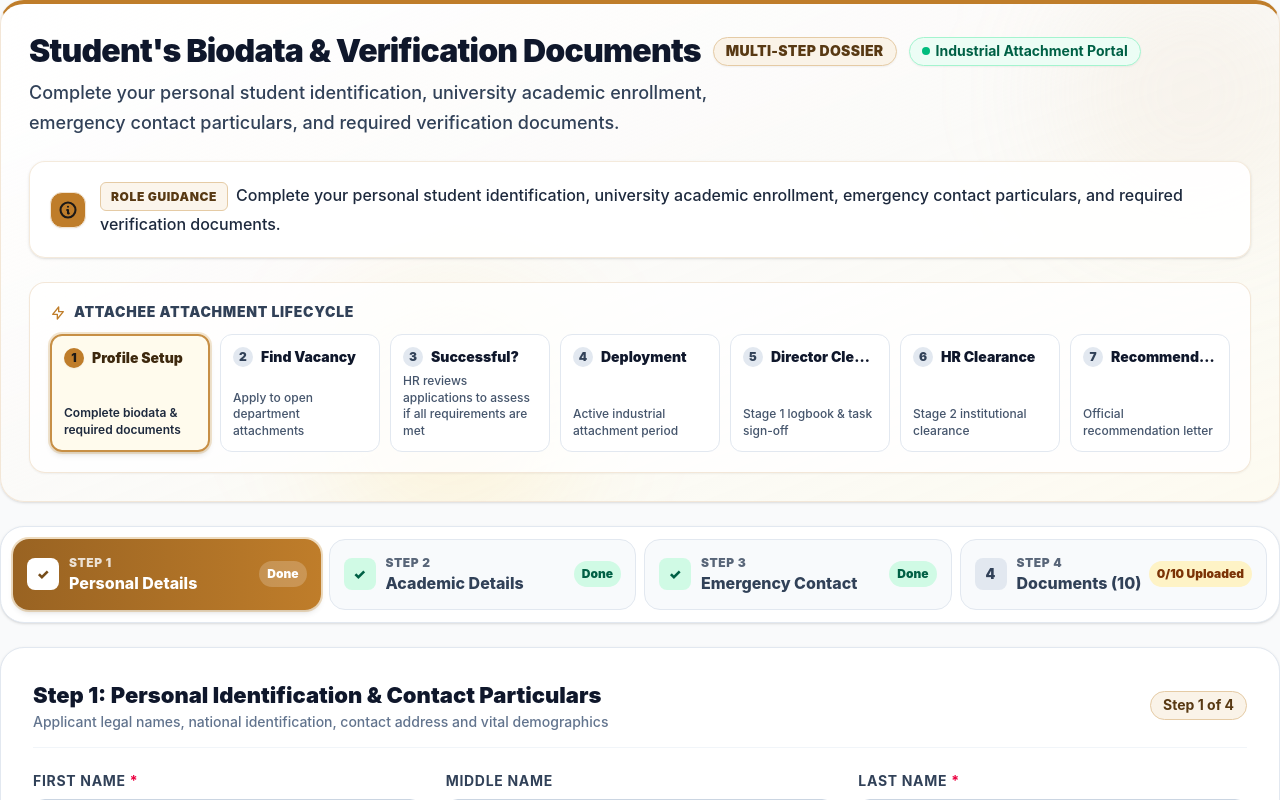
Test: Profile 4-Step Biodata Wizard Component › Academic Standing / Grade Award removal › requires ten documents, not nine
Click the button "4 Step 4 Documents (10) 0/10 Uploaded".
click(1113, 574)  # box [960,539,1267,610]
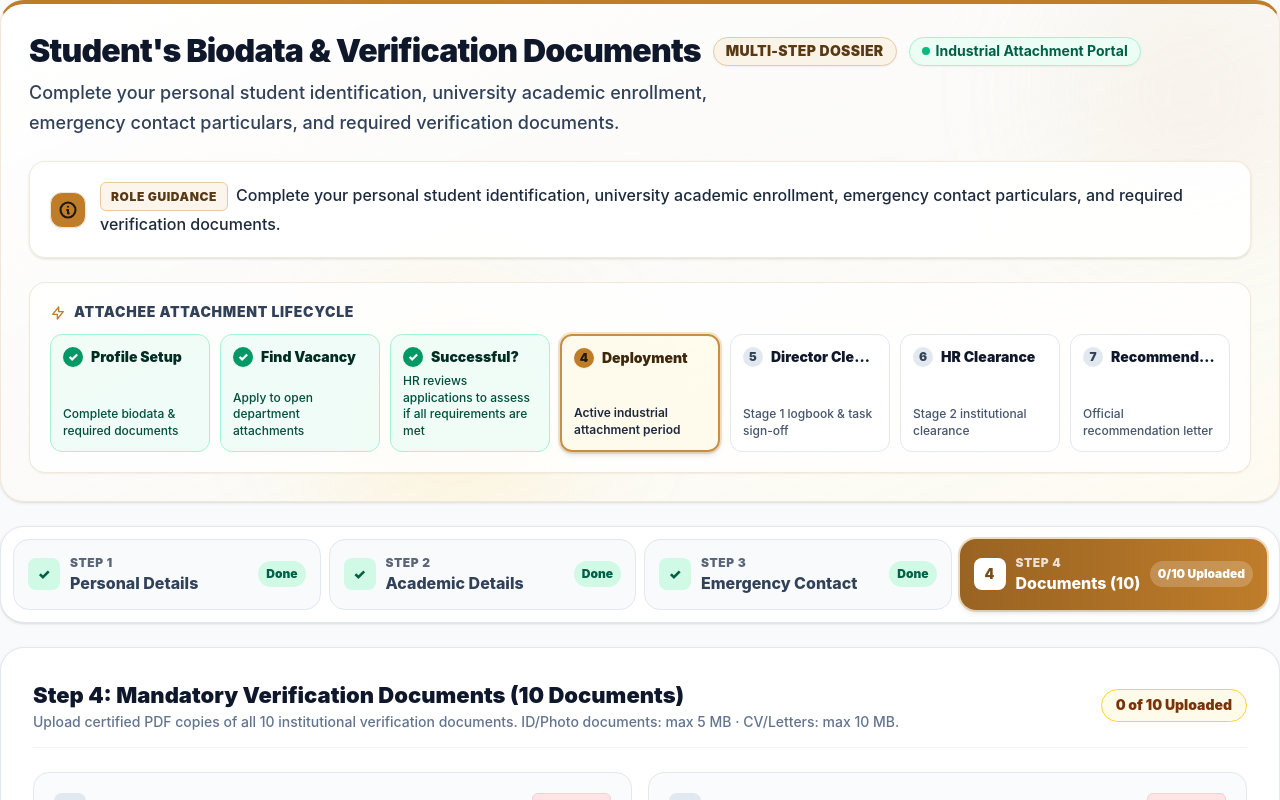
Now the heading "Step 4: Mandatory Verification Documents (10 Documents)" is shown, box [33,682,684,708]
Now the text "0 of 10 Uploaded" is shown, box [1101,689,1247,722]
